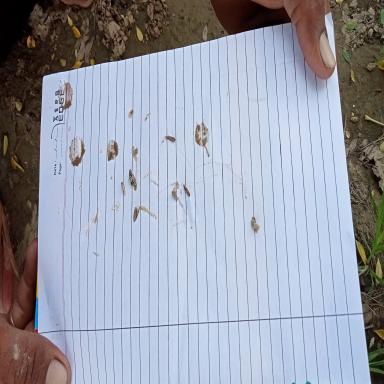pbw: (133, 206, 139, 222), (252, 216, 258, 232), (183, 184, 190, 196), (172, 189, 178, 200), (121, 182, 126, 195), (166, 135, 176, 141), (252, 222, 260, 229)
